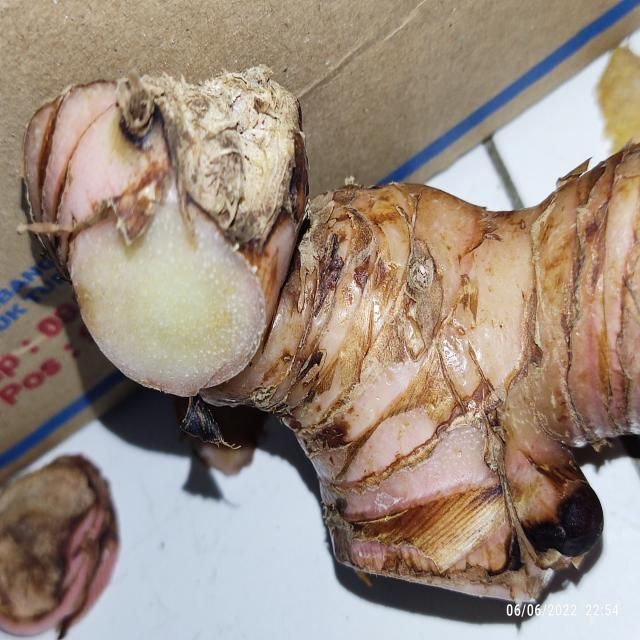ginger: (23, 77, 627, 587)
